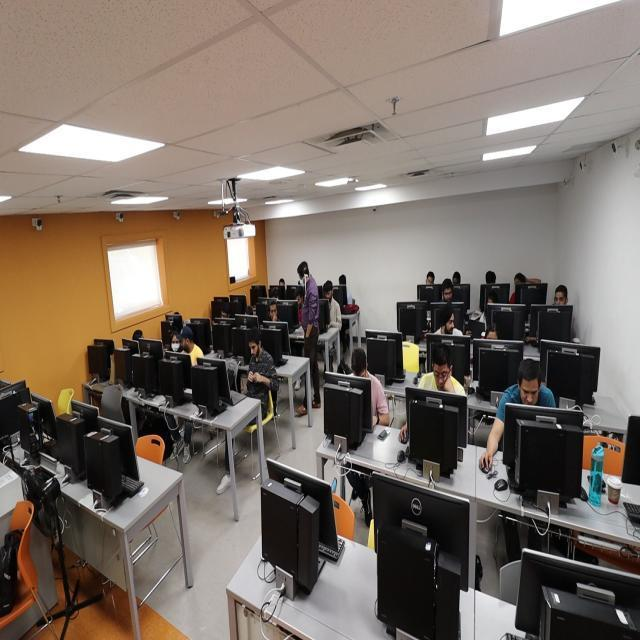Looking away: (520, 378, 539, 406), (432, 363, 450, 392), (352, 360, 367, 382), (445, 313, 455, 337), (248, 340, 258, 358), (443, 287, 453, 303), (180, 337, 190, 353), (269, 304, 278, 321), (514, 276, 524, 288), (295, 294, 303, 309), (324, 288, 332, 302), (426, 276, 434, 285)
Looking forward: (554, 290, 566, 306), (172, 335, 180, 351)
